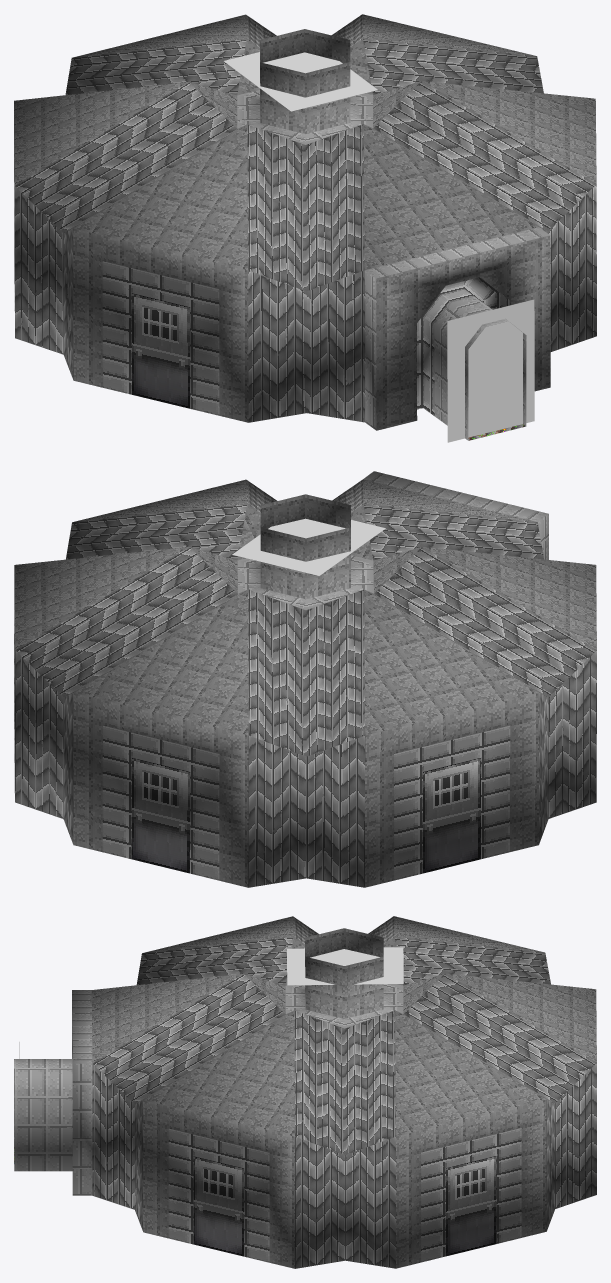
Rendered from cenarioooUOUOo.fbx.
The picture shows the model from 3 angles, top to bottom: view 1: azimuth 30°, elevation 25°; view 2: azimuth 150°, elevation 25°; view 3: azimuth 270°, elevation 25°; orthographic projection. The views are drawn at different scales.
Parts seen in each view (by area): view 1: ShapeIndexedFaceS.016; view 2: ShapeIndexedFaceS.016; view 3: ShapeIndexedFaceS.016.
Boxes of the visible parts, x1,y1,x2,y2 form: ShapeIndexedFaceS.016: (14, 14, 596, 442); ShapeIndexedFaceS.016: (14, 471, 596, 887); ShapeIndexedFaceS.016: (14, 916, 596, 1268).
Bounding box in the file's own units: 585 × 325 × 650.
